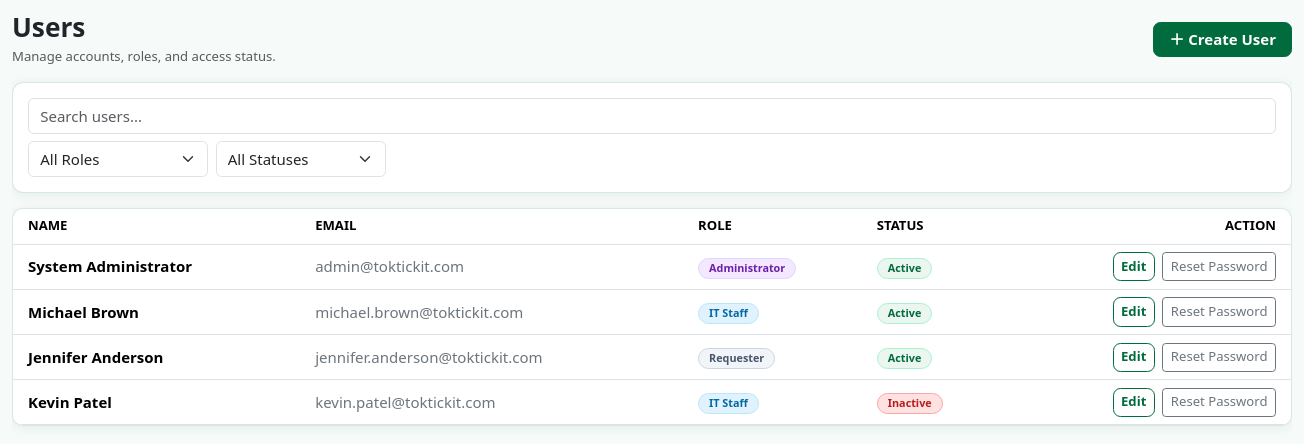
Test: UserManagement Screen (/admin/users) › filters the directory by account status
This screenshot has width=1304, height=444.
Expected: the text "System Administrator" is shown, [13,244,308,289]
Select "Inactive" in the dropdown named "Filter by status" at (300, 159), box [216,141,386,177]
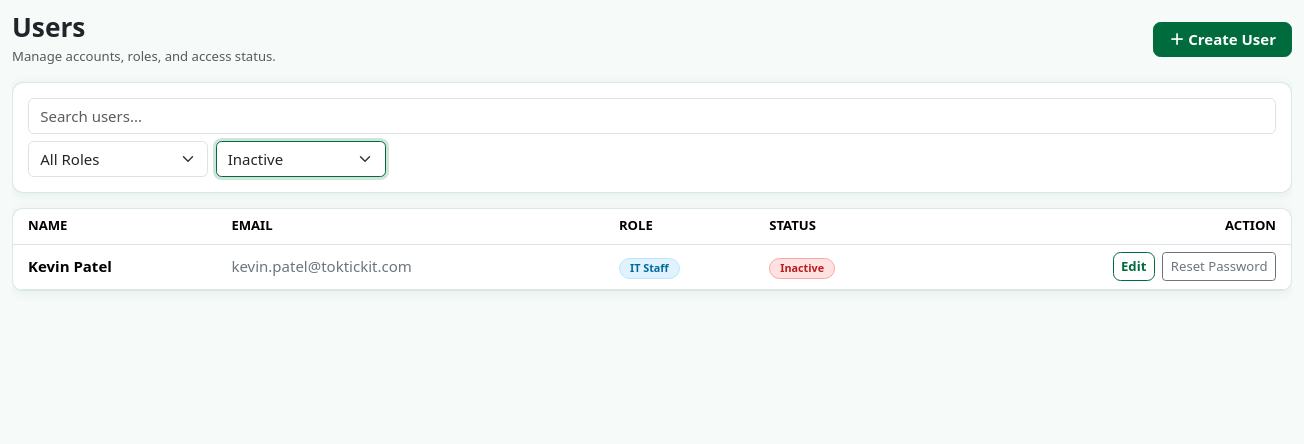
Expected: the text "Kevin Patel" is shown, [13,244,224,289]
Expected: the number of rows with test id "user-row" is 1, [13,244,1291,289]
